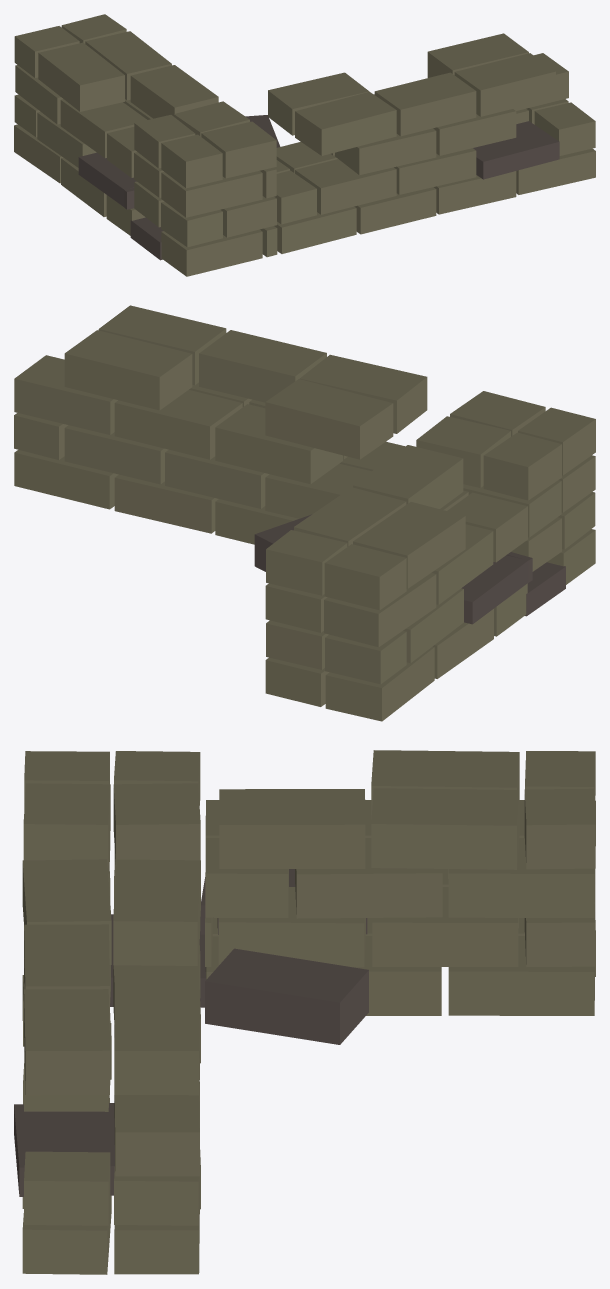
Rendered from SM_PretilEsquinaPaso_v0_Recto_e1_Danado_LOD0.fbx.
The picture shows the model from 3 angles, top to bottom: view 1: azimuth 30°, elevation 25°; view 2: azimuth 150°, elevation 25°; view 3: azimuth 270°, elevation 25°; orthographic projection. The views are drawn at different scales.
Visible parts, largest first — view 1: SM_pretil_azotea_v41_LOD0; view 2: SM_pretil_azotea_v41_LOD0; view 3: SM_pretil_azotea_v41_LOD0.
Part boxes in pixels (x1=…): SM_pretil_azotea_v41_LOD0: x1=14, y1=14, x2=595, y2=276; SM_pretil_azotea_v41_LOD0: x1=14, y1=305, x2=595, y2=721; SM_pretil_azotea_v41_LOD0: x1=14, y1=750, x2=595, y2=1274.
Bounding box in the file's own units: 4.42 × 1.18 × 3.23.
